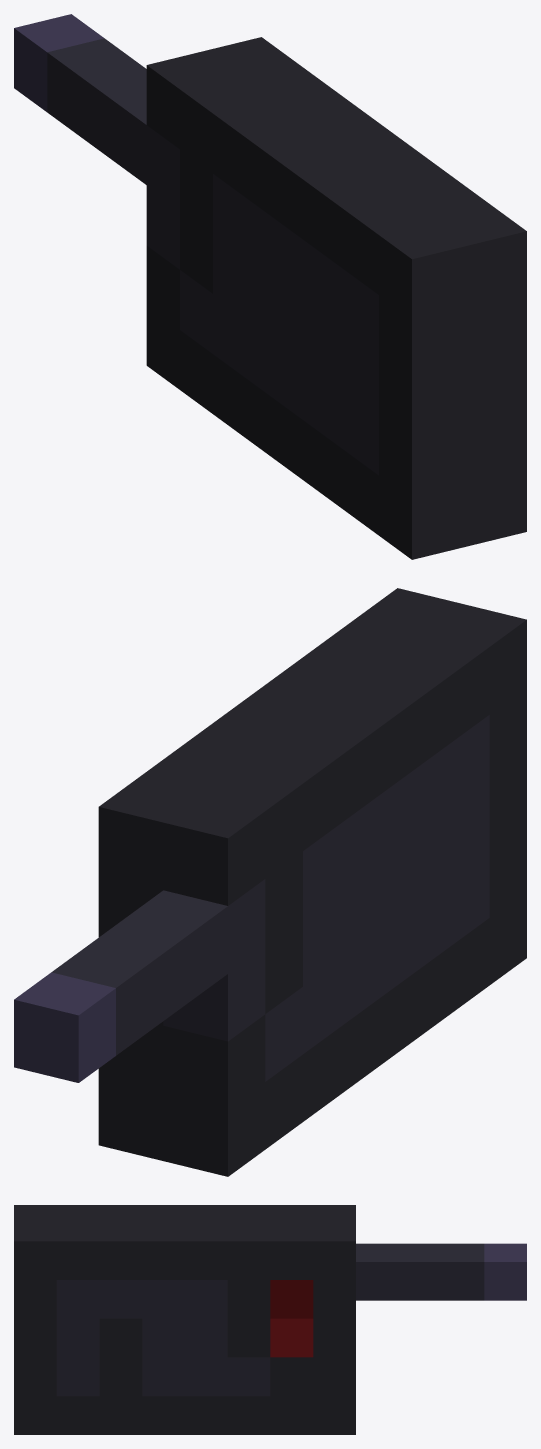
File: Radist-0.obj
3 views of the same model, one above another, from view 1: azimuth 30°, elevation 25°; view 2: azimuth 150°, elevation 25°; view 3: azimuth 270°, elevation 25° (orthographic). The views are drawn at different scales.
Bounding box in the file's own units: 0.2 × 0.5 × 1.2.
Materials: 1 (1 with a texture image).
